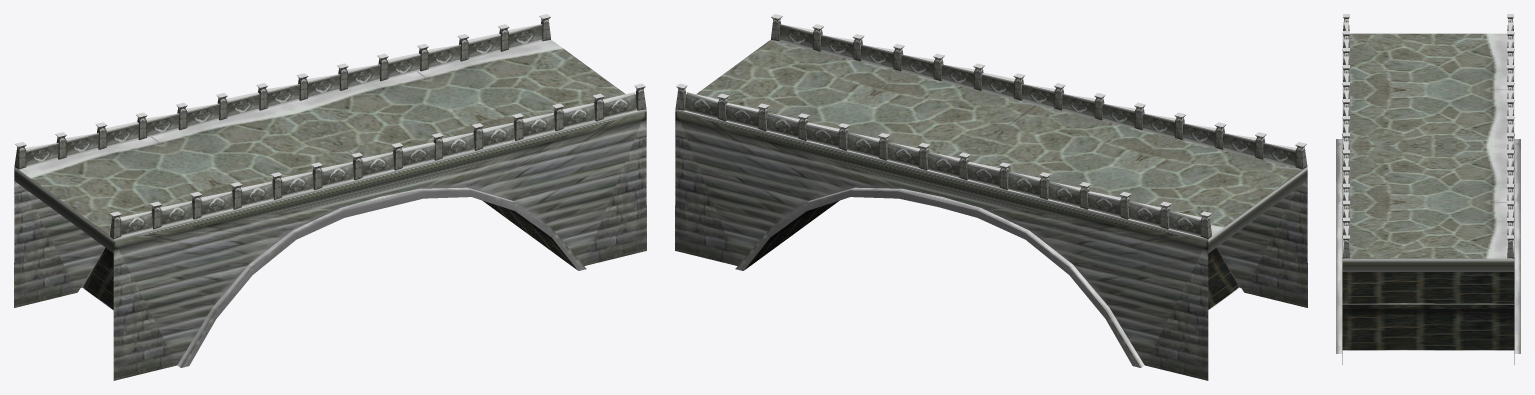
File: nsm-022-10m-bridge_lod_01.fbx
3 renders of one model, left to right at view 1: azimuth 30°, elevation 25°; view 2: azimuth 150°, elevation 25°; view 3: azimuth 270°, elevation 25°, orthographic. The views are drawn at different scales.
Parts seen in each view (by area): view 1: 022; view 2: 022; view 3: 022.
Part boxes in pixels (x1=…): 022: x1=14, y1=14, x2=646, y2=380; 022: x1=675, y1=14, x2=1307, y2=380; 022: x1=1336, y1=14, x2=1520, y2=364.
Size of the model in its own units: 39.46 by 11.62 by 13.69.
